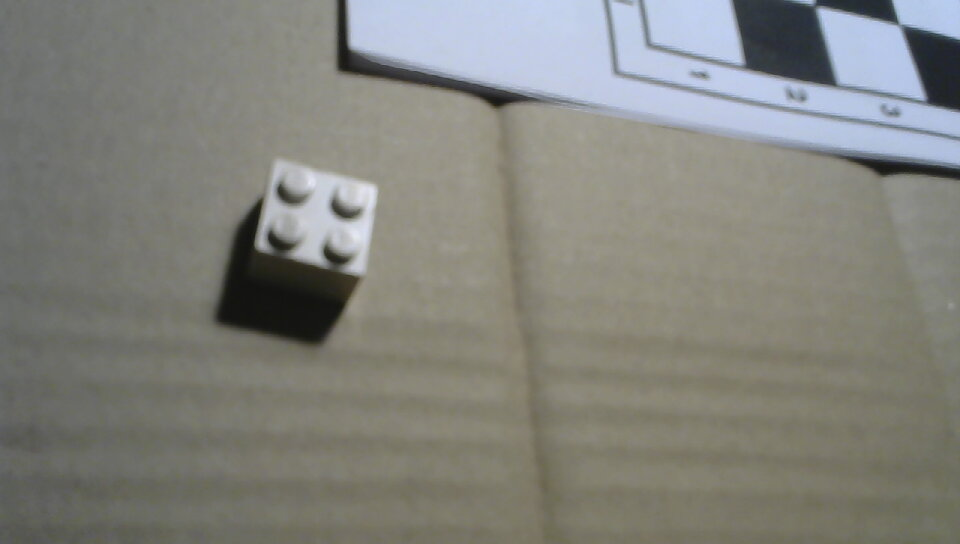wp: (231, 143, 413, 337)
